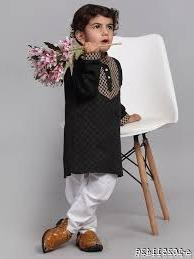Human: (48, 3, 131, 250)
